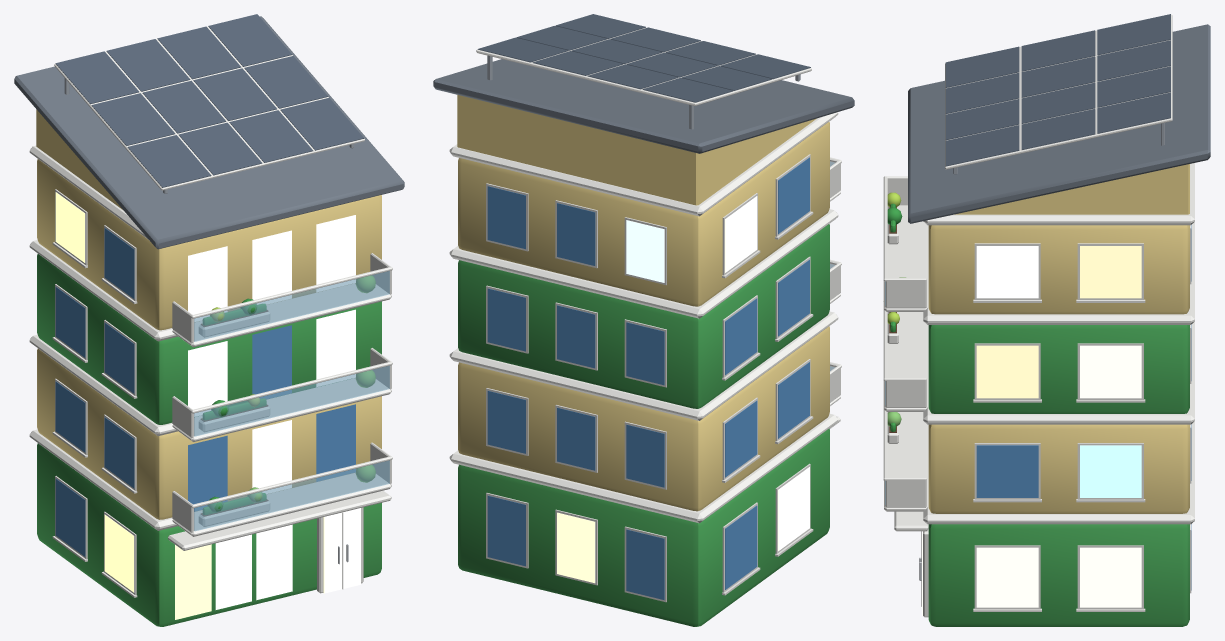
File: predinho_varandas_solar.glb
The picture shows the model from 3 angles, left to right: view 1: azimuth 30°, elevation 25°; view 2: azimuth 150°, elevation 25°; view 3: azimuth 270°, elevation 25°; orthographic projection. The views are drawn at different scales.
Parts seen in each view (by area): view 1: predinho_varandas_solar; view 2: predinho_varandas_solar; view 3: predinho_varandas_solar.
Boxes of the visible parts, box(x1,y1,x2,y2) form: predinho_varandas_solar: box(14, 14, 404, 626); predinho_varandas_solar: box(433, 14, 854, 626); predinho_varandas_solar: box(883, 14, 1210, 626).
Size of the model in its own units: 8.8 by 16.23 by 9.51.
Materials: 7 (1 with a texture image).
